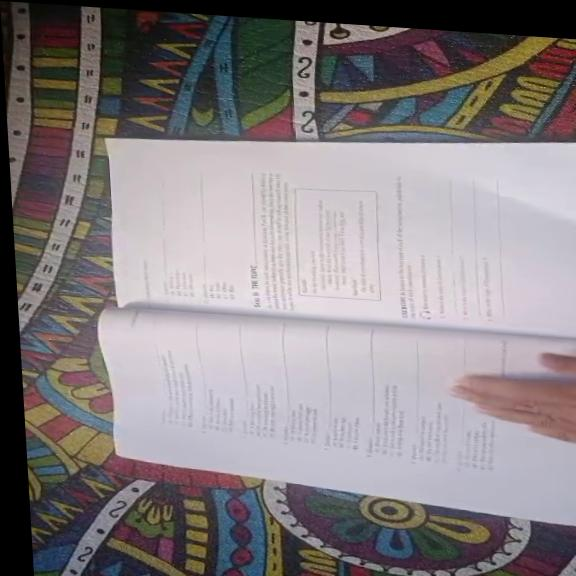Kertas: (113, 139, 576, 354), (105, 206, 456, 479)
